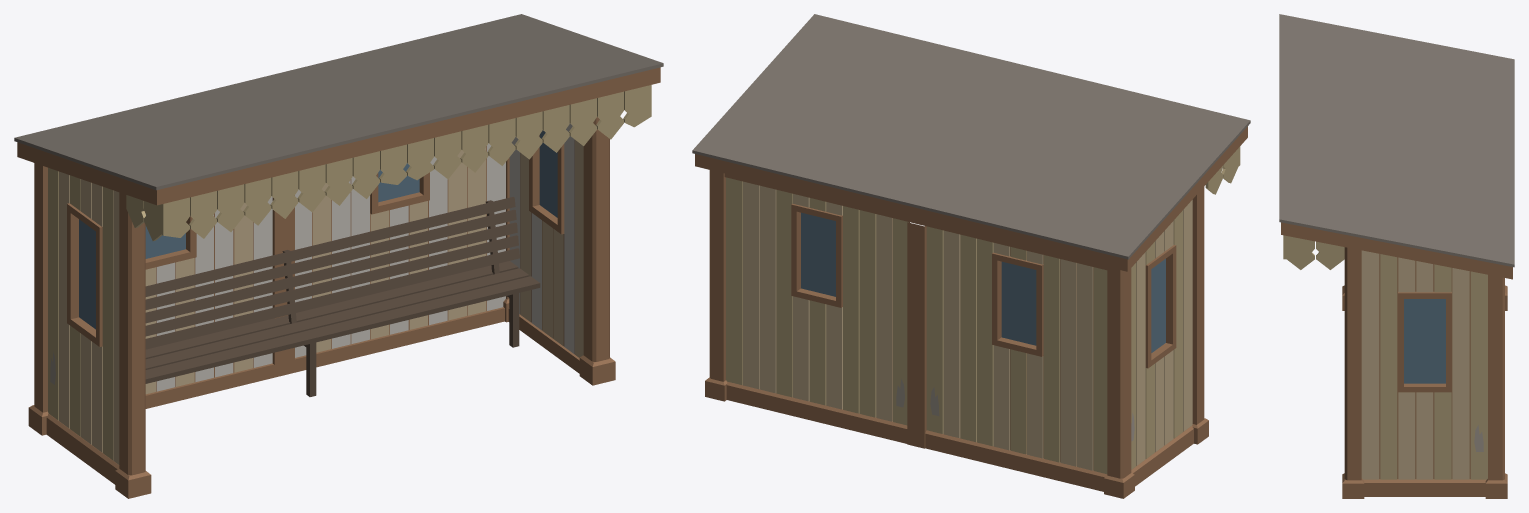
The model's file is platform-shelter-9582b6.glb.
The picture shows the model from 3 angles, left to right: view 1: azimuth 30°, elevation 25°; view 2: azimuth 150°, elevation 25°; view 3: azimuth 270°, elevation 25°; orthographic projection. The views are drawn at different scales.
Parts seen in each view (by area): view 1: shelter; view 2: shelter; view 3: shelter.
Part boxes in pixels (x1,y1,x2,y2): shelter: (14, 14, 663, 498); shelter: (692, 14, 1250, 498); shelter: (1279, 14, 1514, 498).
Bounding box in the file's own units: 4 × 2.58 × 1.94.
